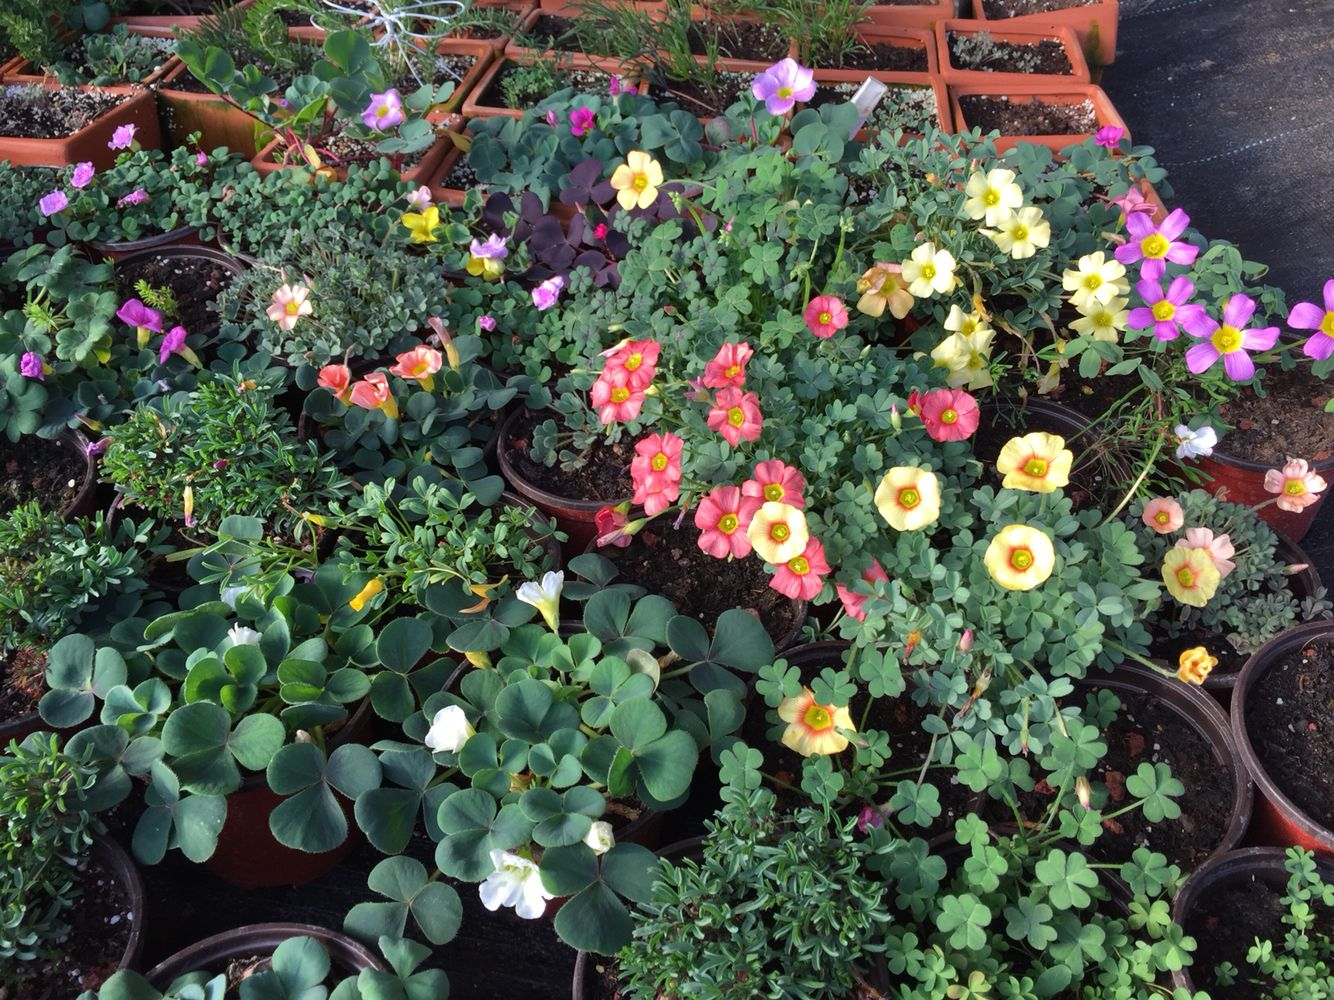oxalis: (939, 820, 1204, 1000), (912, 485, 1160, 674), (957, 718, 1209, 822), (725, 128, 839, 288), (1254, 860, 1334, 979)
